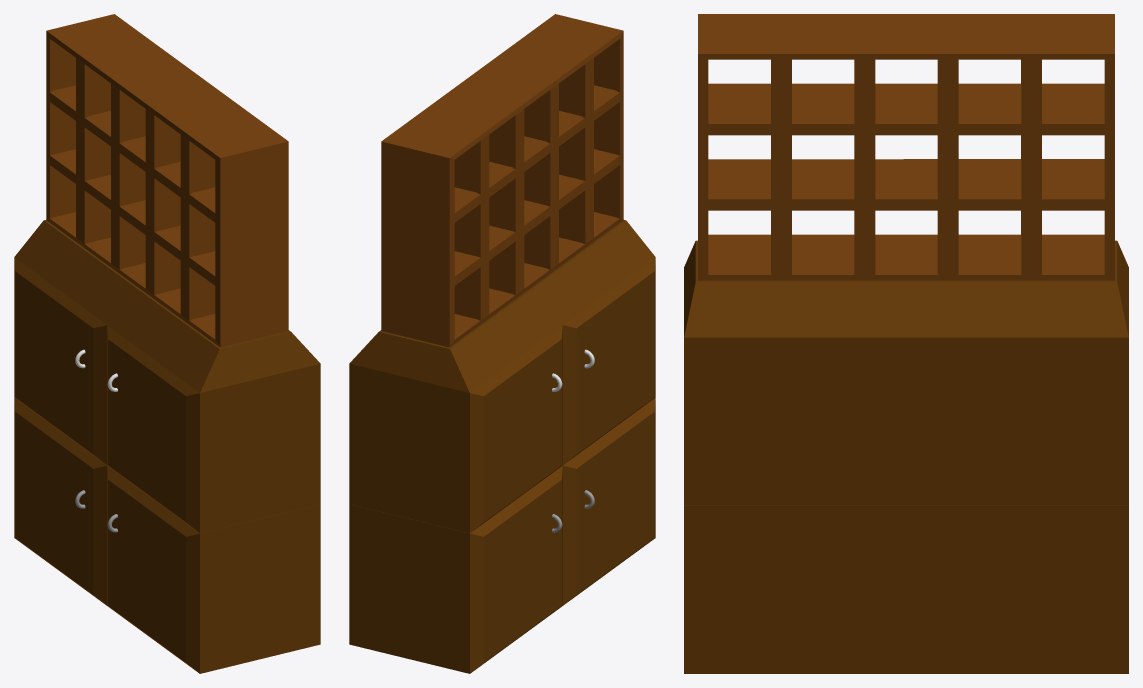
Rendered from shelf.dae.
3 renders of one model, left to right at view 1: azimuth 30°, elevation 25°; view 2: azimuth 150°, elevation 25°; view 3: azimuth 270°, elevation 25°, orthographic. The views are drawn at different scales.
Parts seen in each view (by area): view 1: Torus.002, Cube, Torus.001, Piano.001, Piano.002, Piano; view 2: Torus.002, Cube, Torus.001, Piano.001, Piano.002, Piano; view 3: Torus.002, Torus.001, Cube, Piano.002, Piano.001, Piano.
Boxes of the visible parts, <box> form: Torus.002: <box>14,220,320,533</box>; Cube: <box>46,14,288,347</box>; Torus.001: <box>14,398,320,673</box>; Piano.001: <box>52,149,215,273</box>; Piano.002: <box>53,212,215,336</box>; Piano: <box>53,85,215,209</box>; Torus.002: <box>349,220,655,533</box>; Cube: <box>381,14,623,347</box>; Torus.001: <box>349,398,655,673</box>; Piano.001: <box>454,149,617,273</box>; Piano.002: <box>454,212,616,336</box>; Piano: <box>454,85,616,209</box>; Torus.002: <box>684,240,1128,505</box>; Torus.001: <box>684,505,1128,673</box>; Cube: <box>698,14,1114,280</box>; Piano.002: <box>708,235,1104,271</box>; Piano.001: <box>708,160,1104,195</box>; Piano: <box>708,84,1104,119</box>.
Size of the model in its own units: 0.3383 by 0.8 by 1.2.
